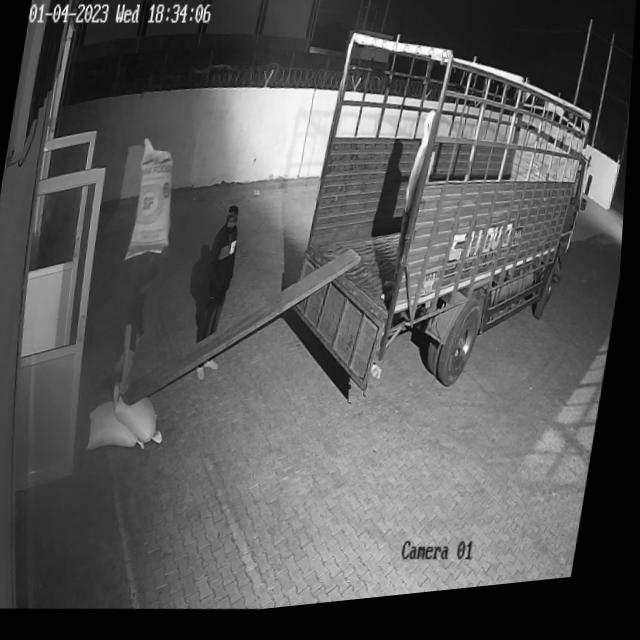sack: (127, 137, 188, 262), (110, 380, 178, 451), (87, 400, 156, 457)
